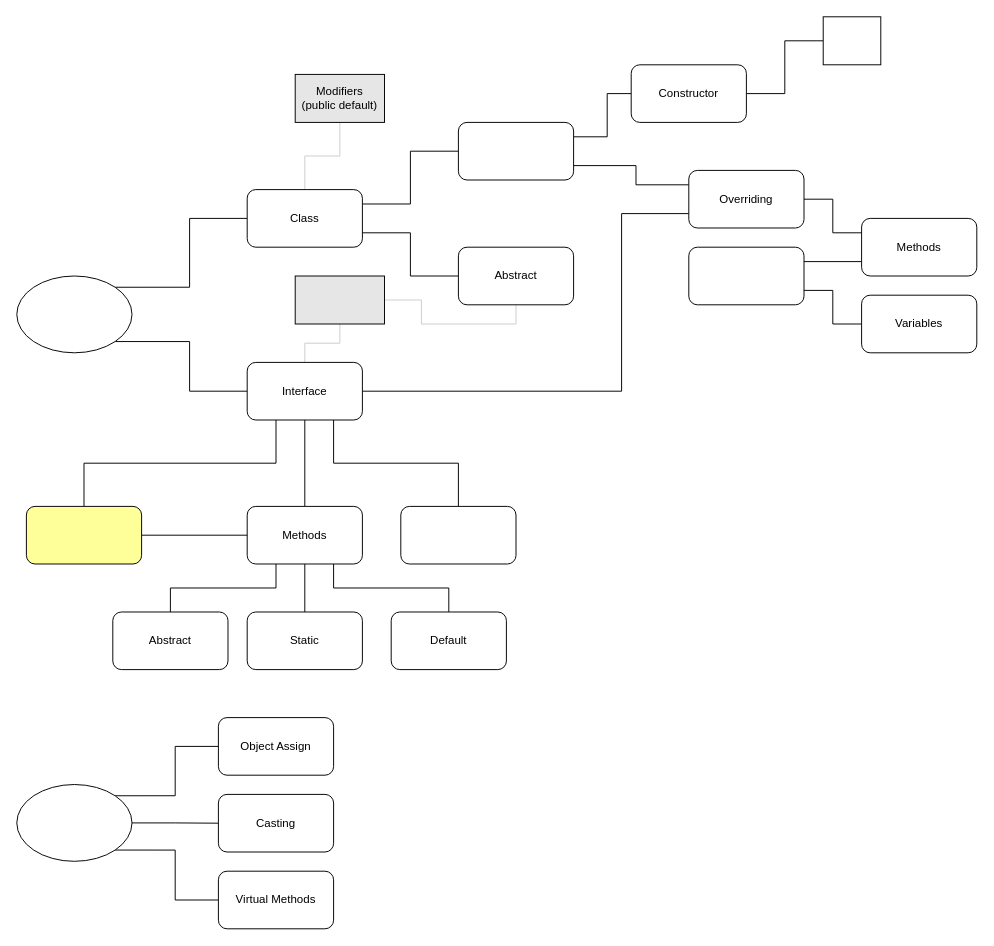
This 994x946 diagram has some shape labels left out. The shapes that lost their labels are listed below. From the top down, each one's centre as x and y in pixels, then its label:
At point (851, 40): "Rules (5)".
At point (515, 150): "Concrete".
At point (746, 275): "Hiding".
At point (74, 314): "Inheritance".
At point (339, 299): "Modifiers (public default) (never final)".
At point (83, 534): "Multi-Inheritance".
At point (458, 534): "Variables (only constats)".
At point (74, 822): "Polymorphism".
